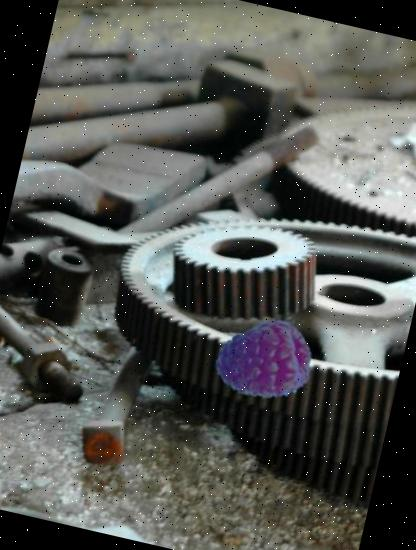Raspberry: (208, 306, 322, 420)
